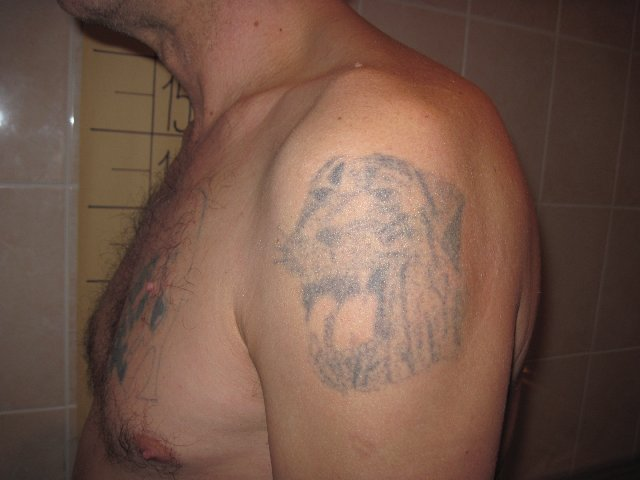tatu5_tigr: (274, 151, 473, 393)
